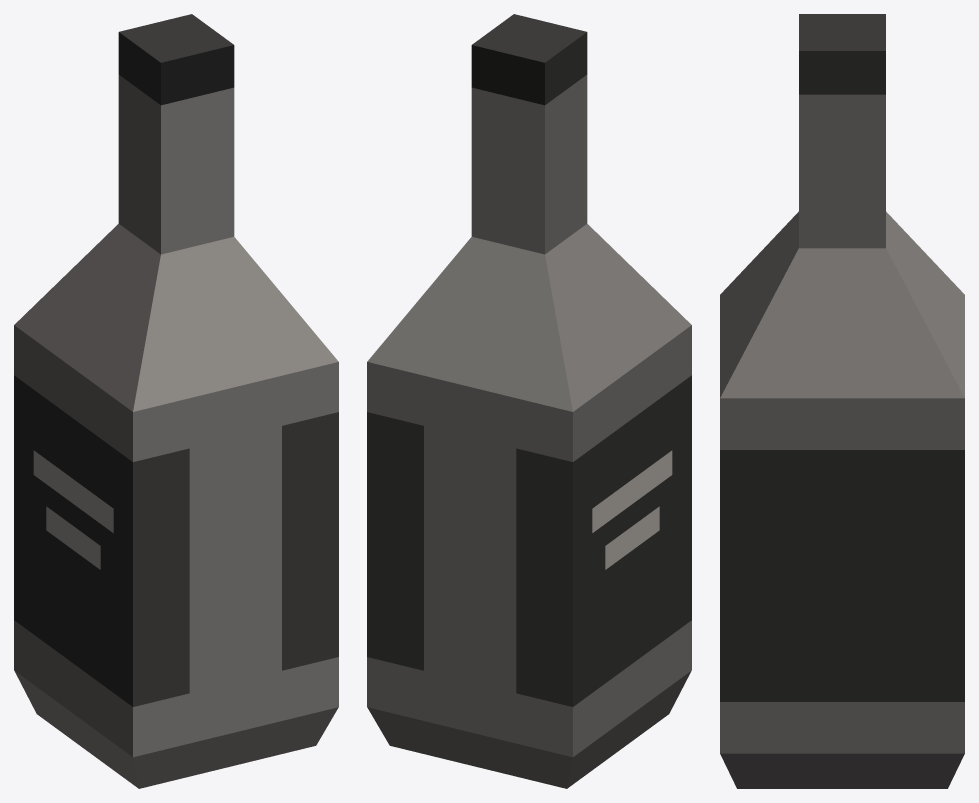
Rendered from AI_Item_Whisky.fbx.
The picture shows the model from 3 angles, left to right: view 1: azimuth 30°, elevation 25°; view 2: azimuth 150°, elevation 25°; view 3: azimuth 270°, elevation 25°; orthographic projection. The views are drawn at different scales.
Visible parts, largest first — view 1: AI_Item_Whisky; view 2: AI_Item_Whisky; view 3: AI_Item_Whisky.
Boxes of the visible parts, left/top/right/bottom form: AI_Item_Whisky: left=14, top=14, right=338, bottom=788; AI_Item_Whisky: left=367, top=14, right=691, bottom=788; AI_Item_Whisky: left=720, top=14, right=964, bottom=788.
Bounding box in the file's own units: 0.2682 × 0.8609 × 0.2682.
